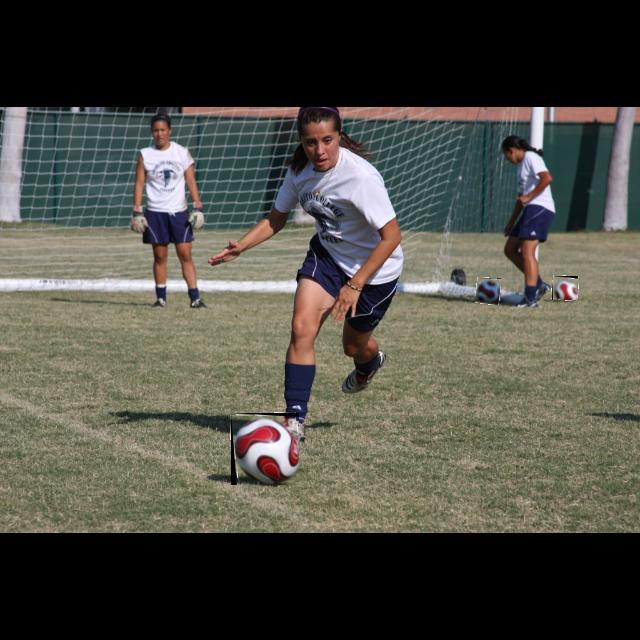Football: (231, 413, 299, 485), (475, 278, 501, 304), (552, 276, 578, 300)
